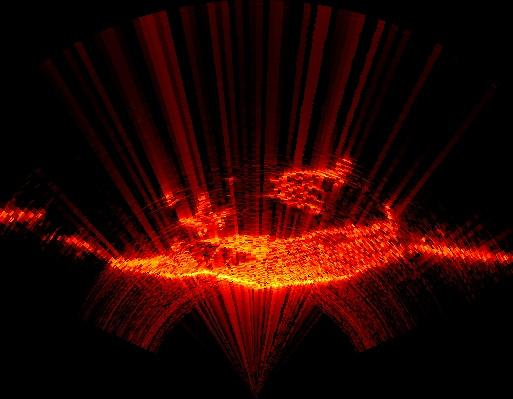shipwreck: (6, 159, 504, 288)
